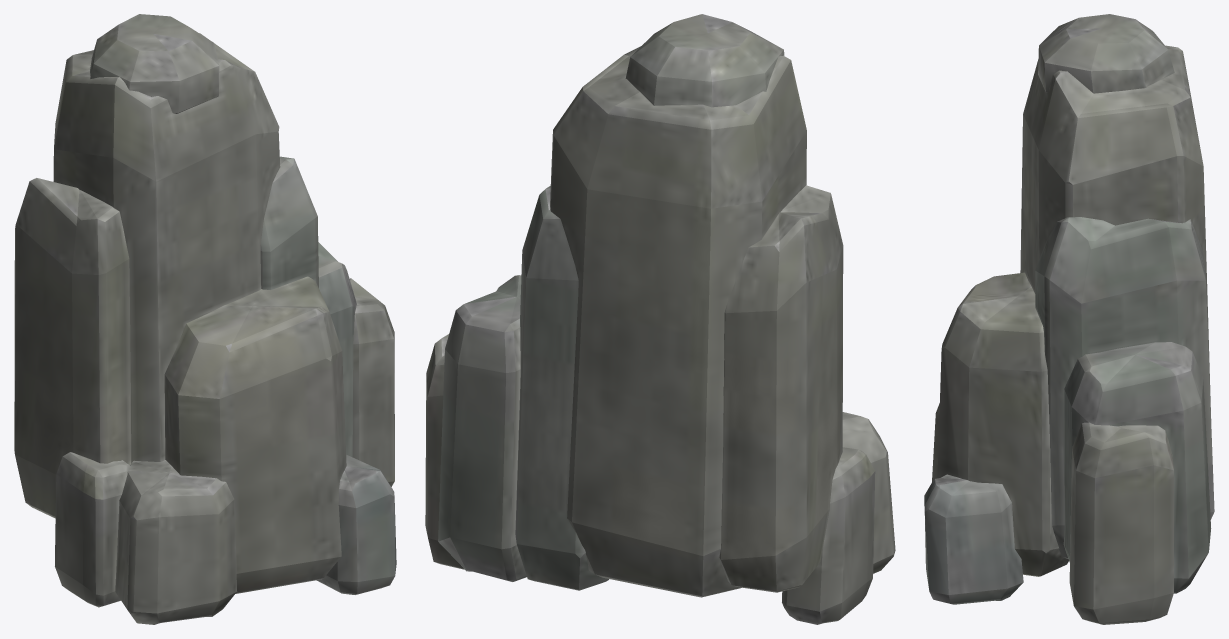
The model's file is sc_rock_1.glb.
The picture shows the model from 3 angles, left to right: view 1: azimuth 30°, elevation 25°; view 2: azimuth 150°, elevation 25°; view 3: azimuth 270°, elevation 25°; orthographic projection. The views are drawn at different scales.
Visible parts, largest first — view 1: 01 · Sentinel cliff; view 2: 01 · Sentinel cliff; view 3: 01 · Sentinel cliff.
Part boxes in pixels (bbox=[...]): 01 · Sentinel cliff: bbox=[14, 14, 396, 624]; 01 · Sentinel cliff: bbox=[425, 14, 895, 624]; 01 · Sentinel cliff: bbox=[924, 14, 1214, 624].
Bounding box in the file's own units: 3.01 × 4.34 × 2.25.
1 material, 1 textured.
